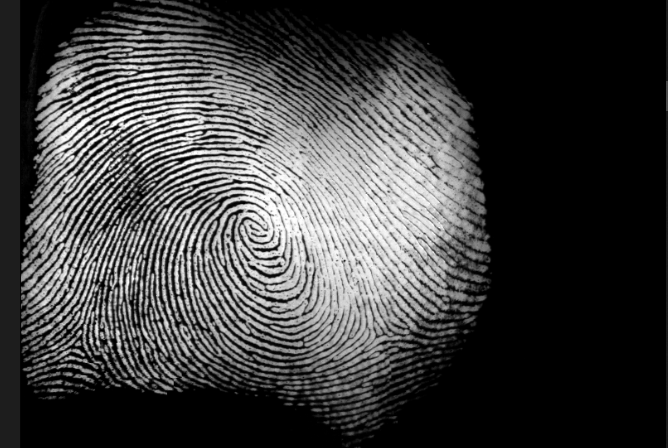nucelo: (228, 210, 274, 252)
verticilo: (64, 327, 91, 356), (367, 319, 392, 342)
